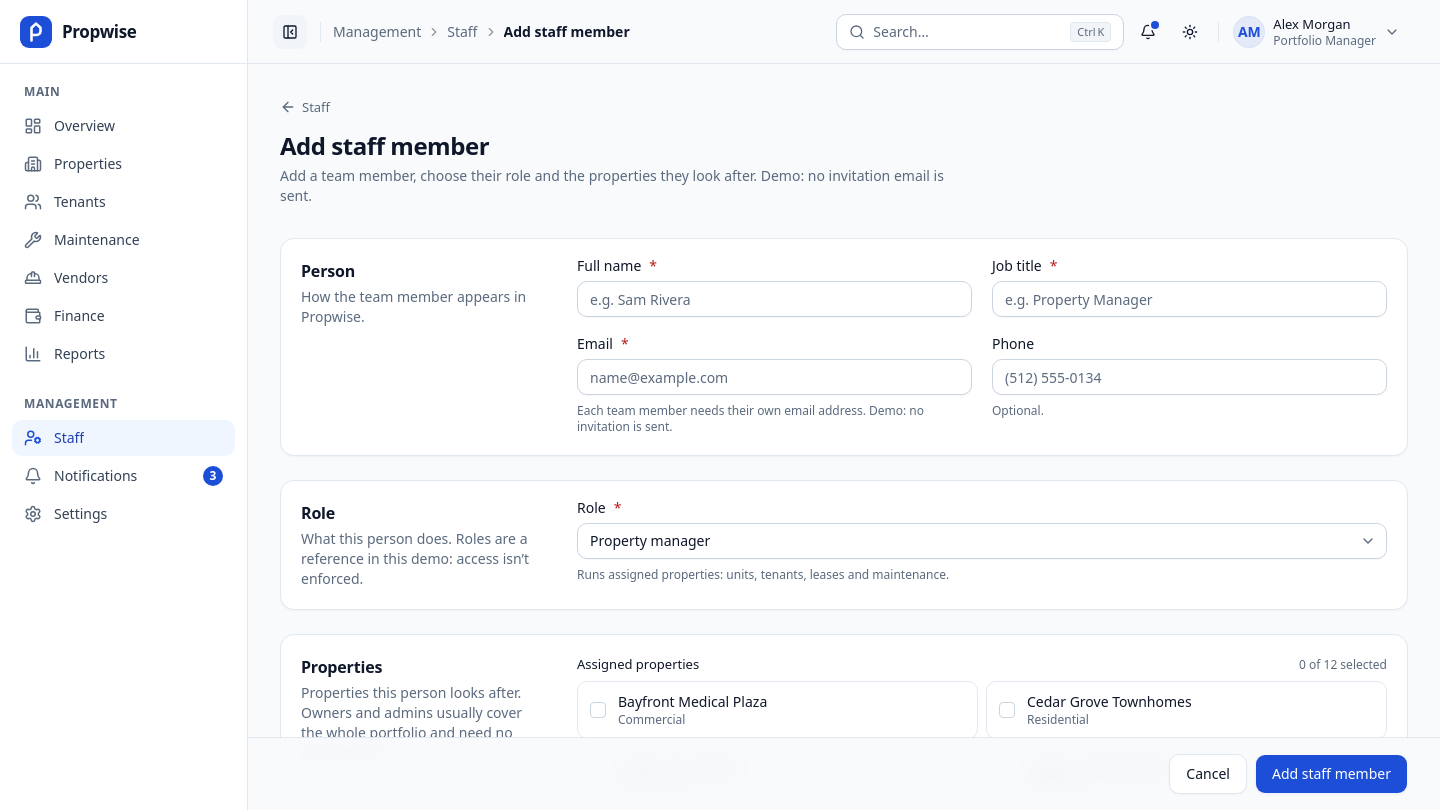
Staff member pages › shows field errors and saves nothing while the form is invalid
The width and height of the screenshot is (1440, 810).
Click the button "Add staff member": (1331, 774) [1255, 754, 1408, 794]
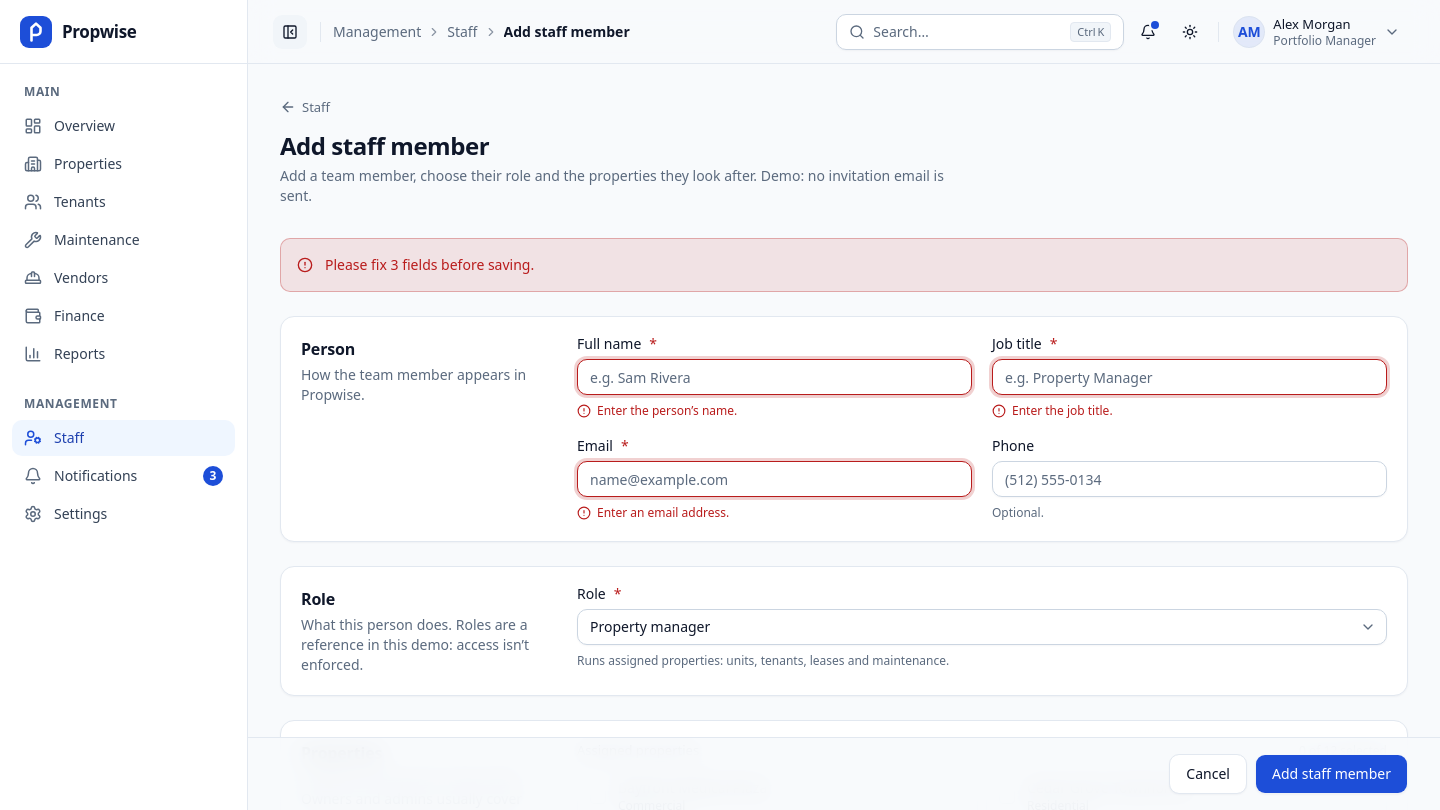
Expected: the text "Enter the person’s name." is shown, [577, 402, 737, 419]
Expected: the text "Enter an email address." is shown, [577, 504, 729, 521]
Expected: the text "Enter the job title." is shown, [992, 402, 1113, 419]
